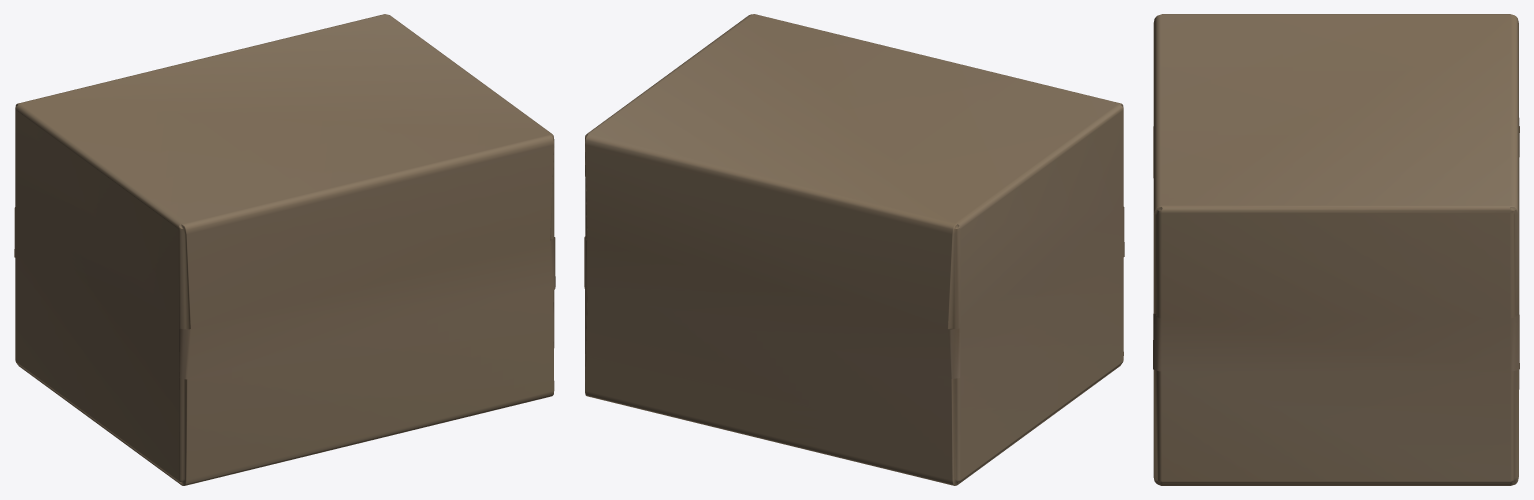
File: cardboard-box.glb
3 views of the same model, side by side, from view 1: azimuth 30°, elevation 25°; view 2: azimuth 150°, elevation 25°; view 3: azimuth 270°, elevation 25° (orthographic). The views are drawn at different scales.
Visible parts, largest first — view 1: geometry_0; view 2: geometry_0; view 3: geometry_0.
Part boxes in pixels (x1=…): geometry_0: x1=14, y1=14, x2=555, y2=485; geometry_0: x1=584, y1=14, x2=1124, y2=485; geometry_0: x1=1153, y1=14, x2=1519, y2=485.
Bounding box in the file's own units: 0.48 × 0.32 × 0.38.
